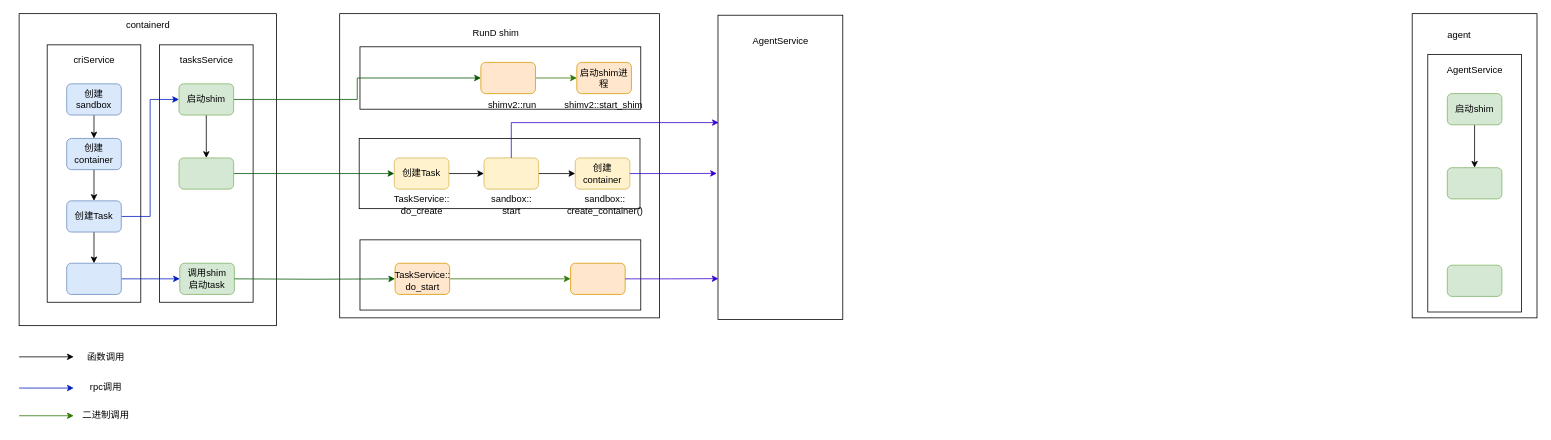
This 1551x440 diagram has some shape labels left out. Each missing label, with the box of its shape:
do_start_container: (1447, 264, 1502, 296)
sandbox:: start_container: (570, 262, 625, 294)
创建临时shim进程: (480, 62, 535, 94)
启动sandbox: (483, 157, 539, 189)
启动Task: (66, 262, 121, 294)
调用shim 创建task: (178, 157, 234, 189)
